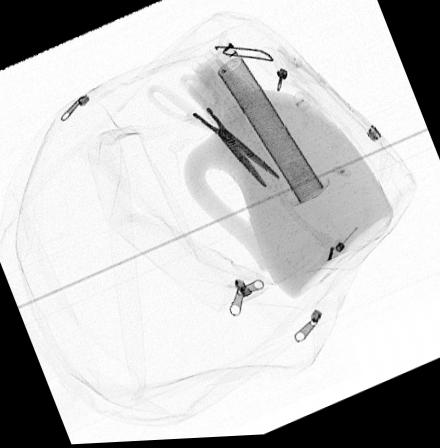Scissors: (144, 73, 280, 192)
